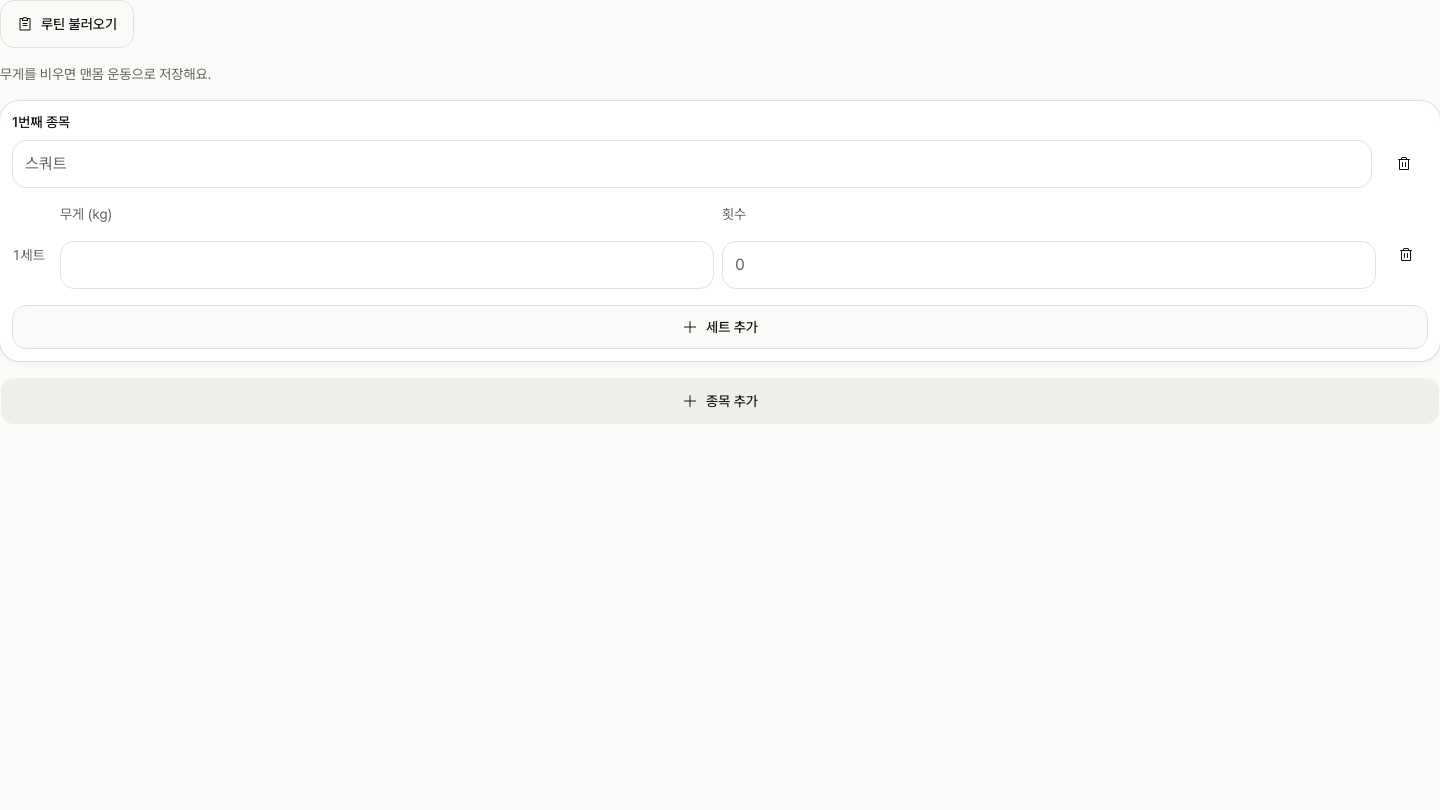
루틴 불러오기 › 저장한 루틴이 없으면 만드는 곳을 알려 준다
The image size is (1440, 810).
Click the button "루틴 불러오기" at coordinates (67, 24), box x1=0 y1=0 x2=134 y2=48
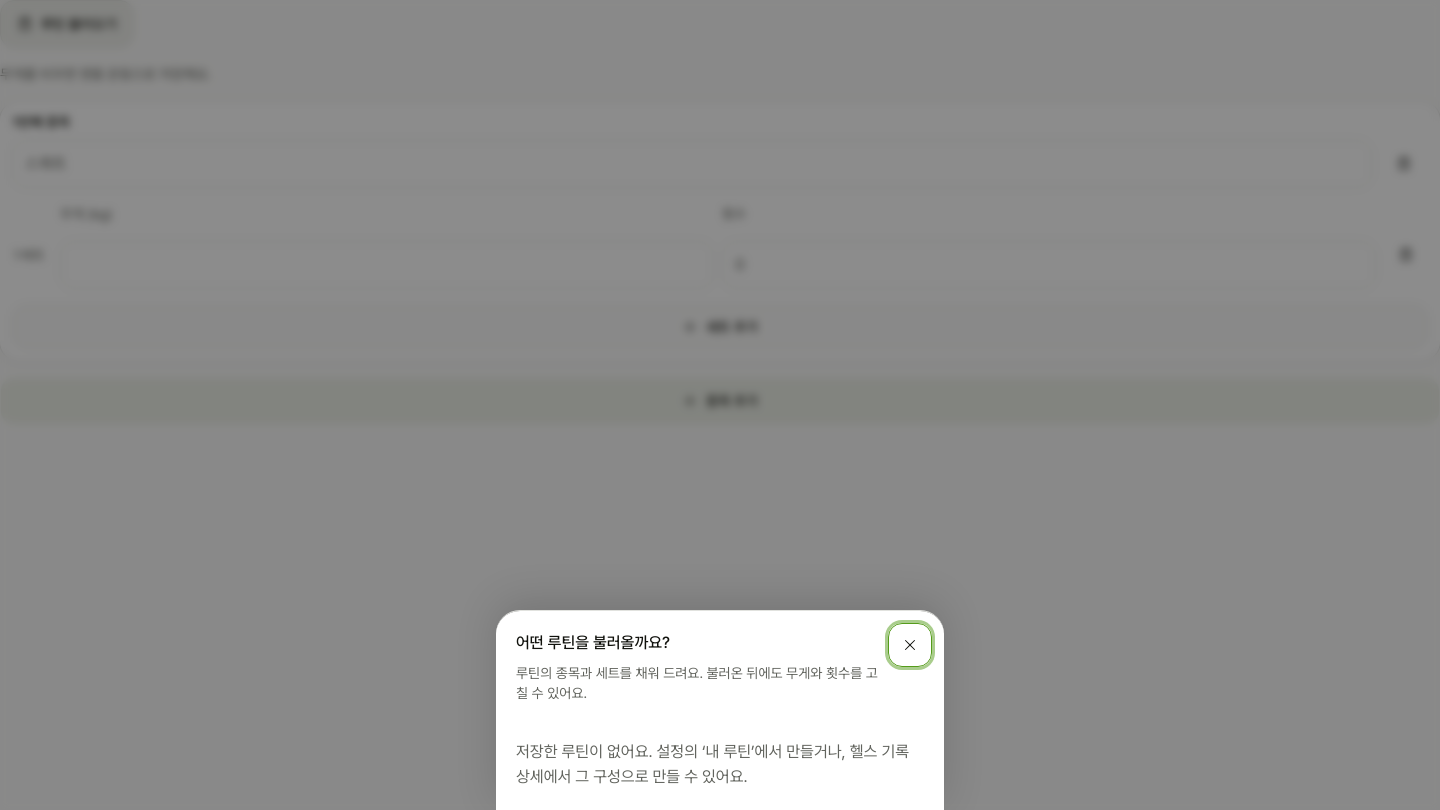
Result: the text "저장한 루틴이 없어요. 설정의 ‘내 루틴’에서 만들거나, 헬스 기록 상세에서 그 구성으로 만들 수 있어요." is shown at x1=496 y1=739 x2=944 y2=809
